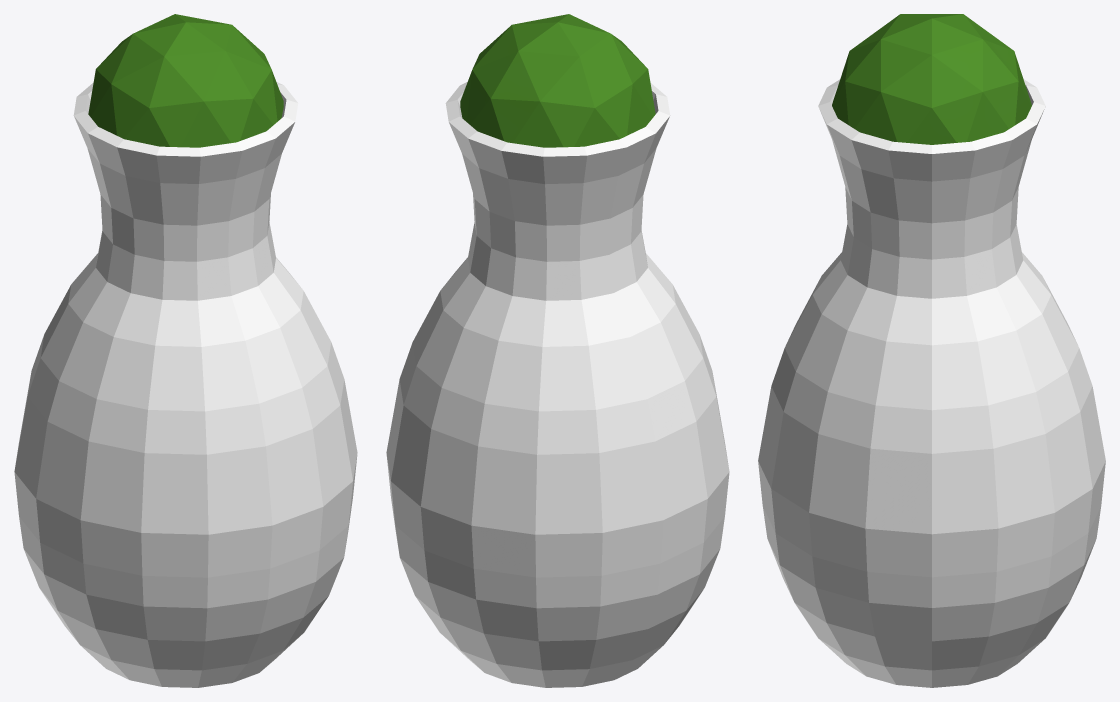
The model's file is Vaza.fbx.
3 views of the same model, side by side, from view 1: azimuth 30°, elevation 25°; view 2: azimuth 150°, elevation 25°; view 3: azimuth 270°, elevation 25° (orthographic).
Visible parts, largest first — view 1: Circle; view 2: Circle; view 3: Circle.
Boxes of the visible parts, left/top/right/bottom form: Circle: left=14, top=14, right=357, bottom=687; Circle: left=386, top=14, right=729, bottom=687; Circle: left=758, top=14, right=1105, bottom=687.
Size of the model in its own units: 307 by 614 by 307.
